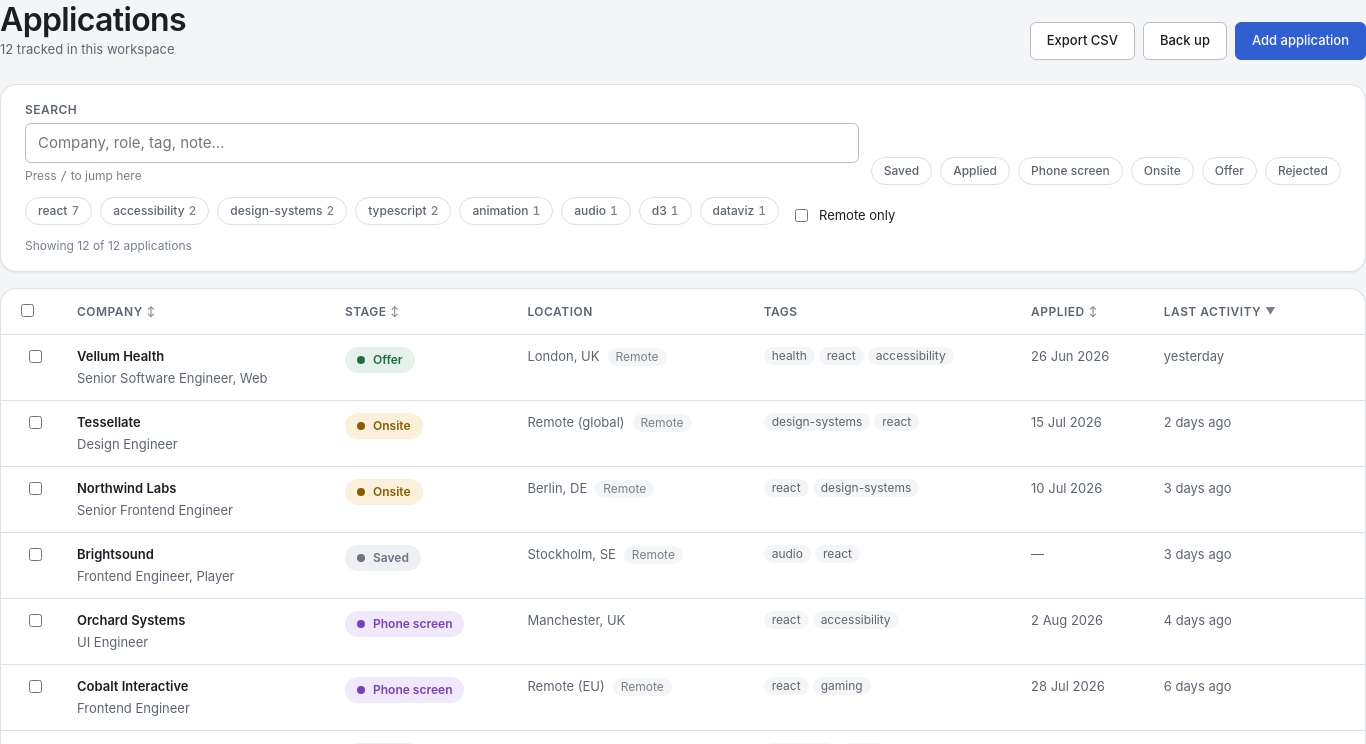
Scenario: BulkActionsBar › deletes the selection and offers an undo that restores it
Click the checkbox named "Select Vellum Health" at (36, 356), box [29,350,42,363]
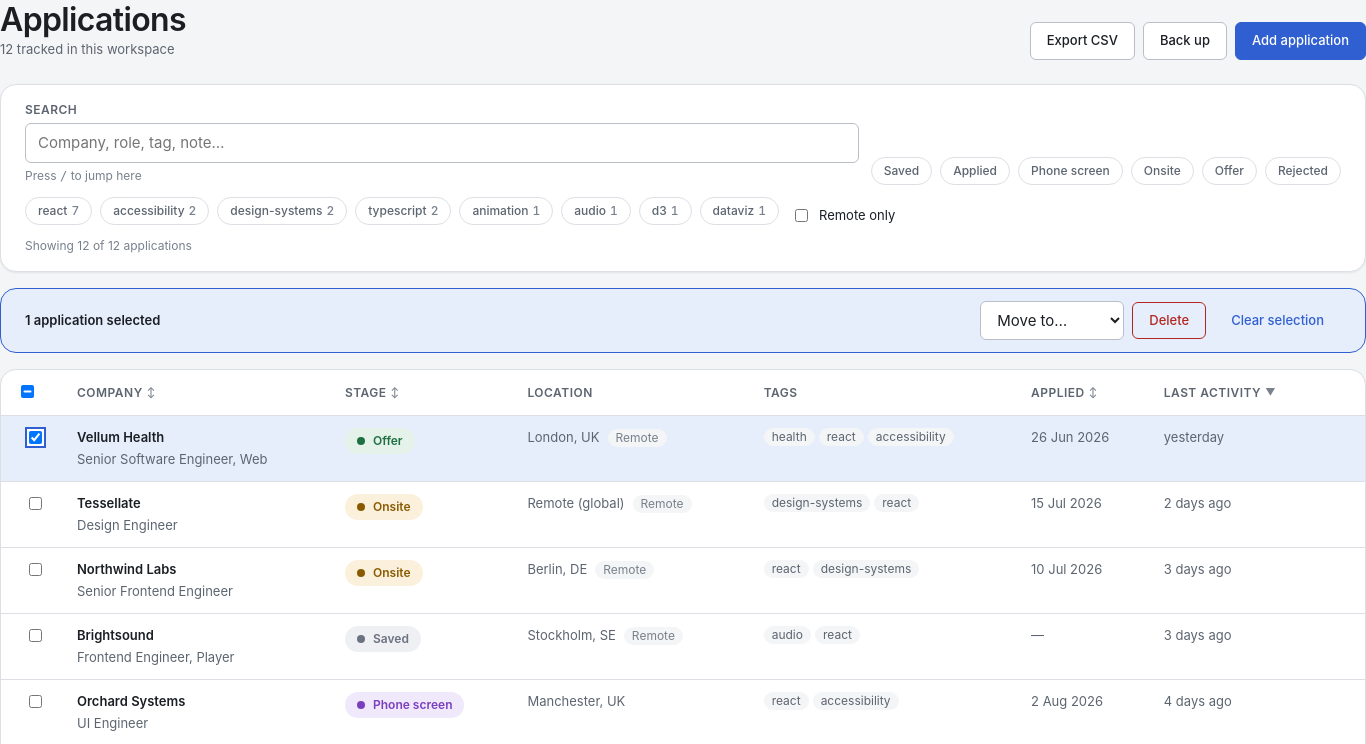
Click the button "Delete" at (1169, 321), box [1132,302,1206,339]
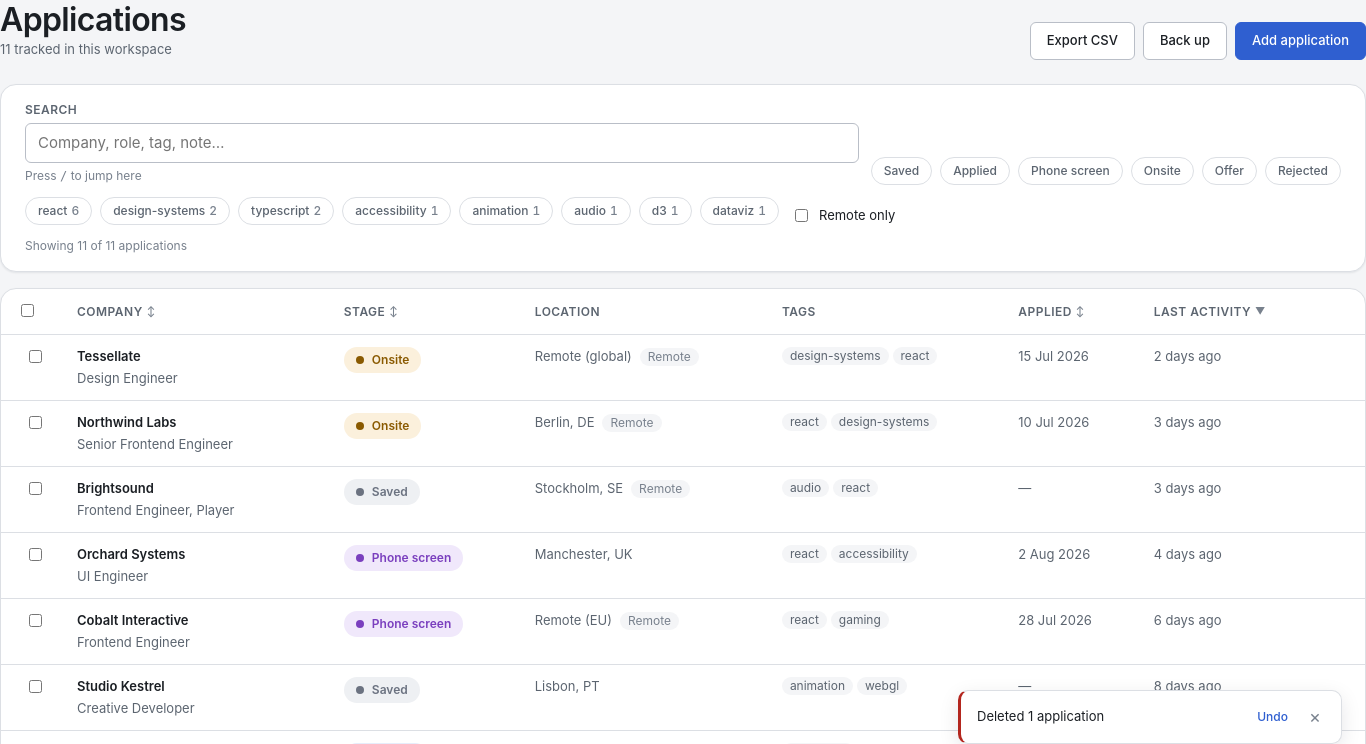
Now the button "Vellum Health" is gone
Now the text "Deleted 1 application" is shown, box [977,708,1104,724]
Click the button "Undo" at (1273, 717), box [1248,703,1297,731]
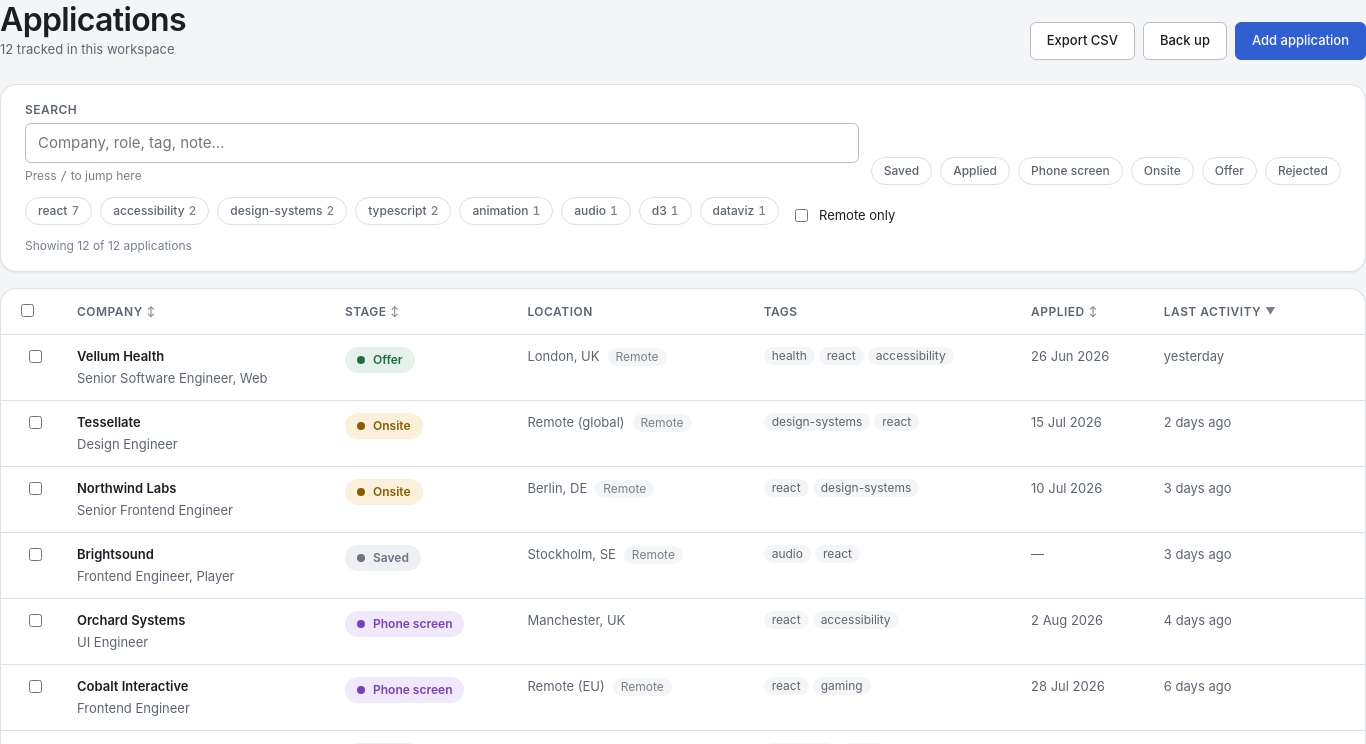
Now the text "Vellum Health" is shown, box [77,347,164,366]
